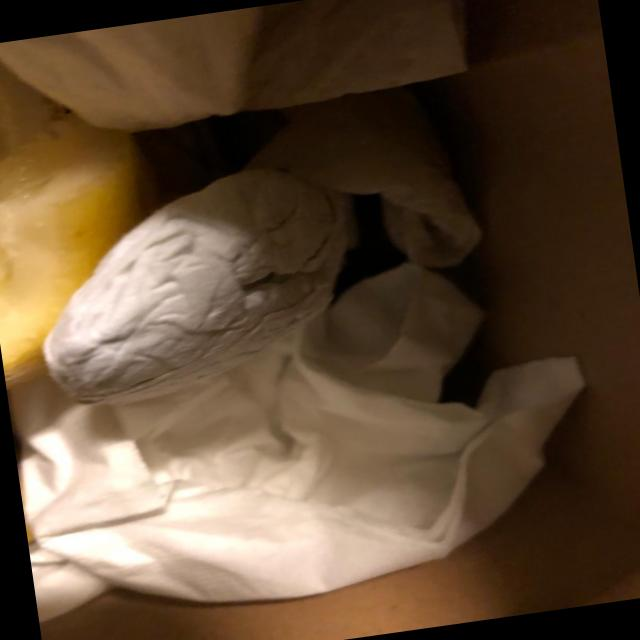organic waste: (0, 235, 606, 632), (24, 150, 376, 410)
